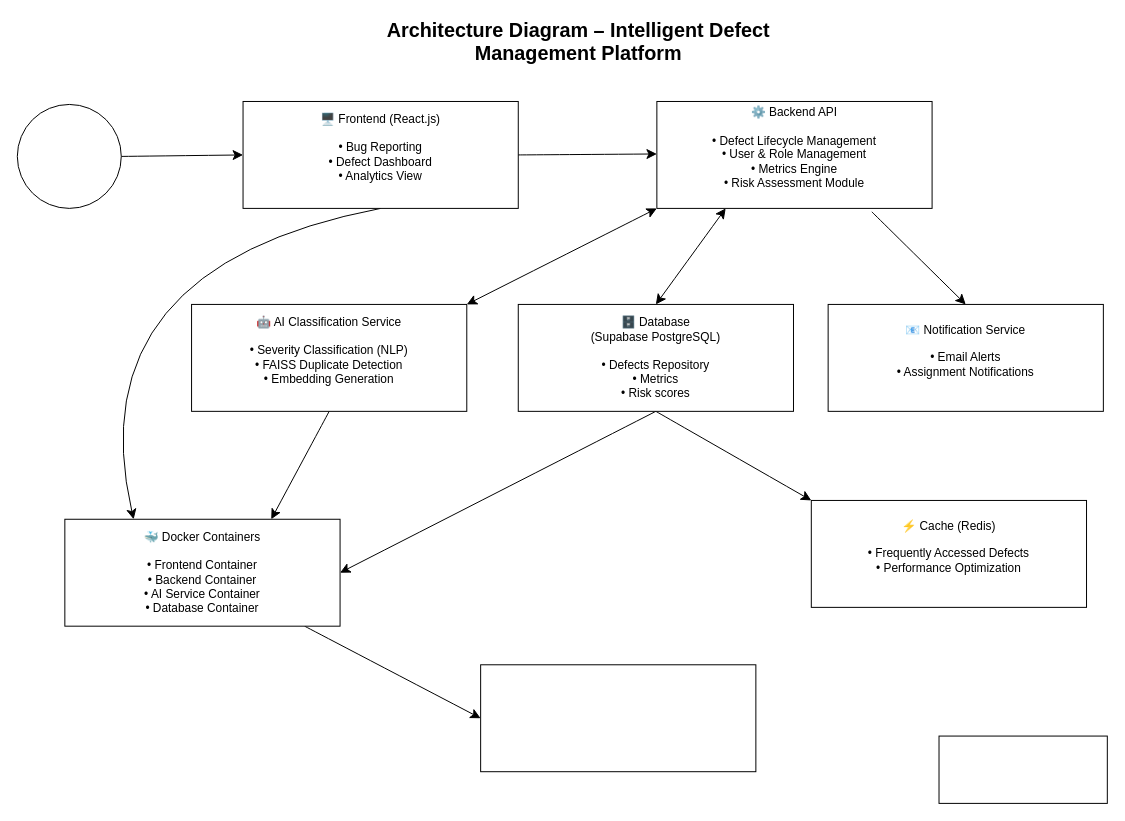
This 1125x821 diagram has some shape labels left out. The centre of each missing label's shape, as x and y in pixels:
Legend: → Data Flow Boxes → System Components: point (1022, 769)
☁️ Deployment Environment • Local Development • Cloud Infrastructure: point (618, 718)
👤 Users (Testers, Developers, Managers): point (68, 155)
